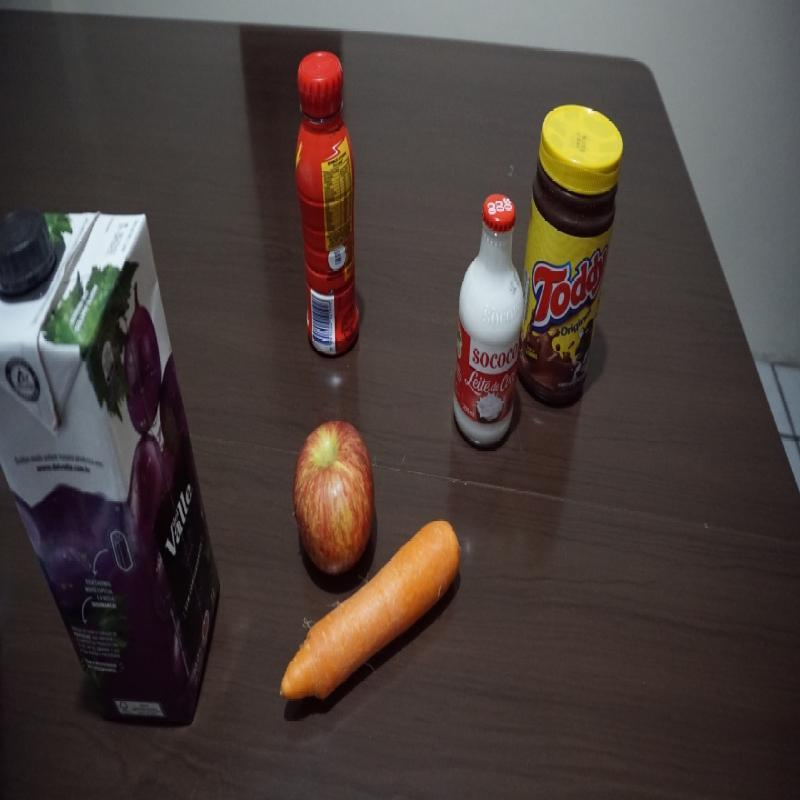Apple: (291, 407, 370, 564)
Carrot: (281, 557, 463, 710)
Chocolate Milk: (293, 47, 361, 353)
Chocolate Powder: (527, 105, 622, 407)
Coconut Milk: (441, 194, 522, 446)
